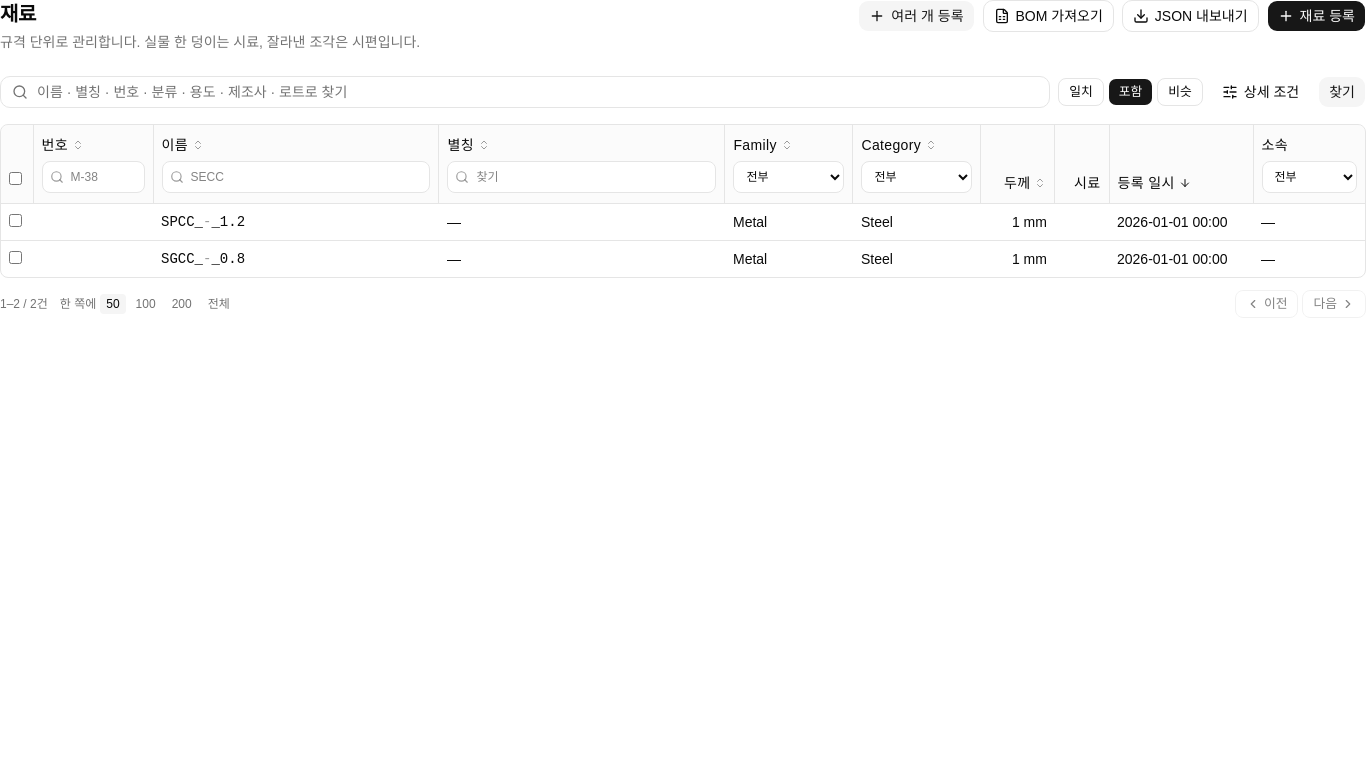
it: 일괄 삭제 › 열 때 무엇이 딸려 있는지 서버에 묻는다
expect the link "SPCC_-_1.2" is shown: met, box [161,214,245,230]
What coordinates should you click on to do the following:
click the checkbox named "전부 선택"
I would click on:
 (16, 178)
Its box is [9,172,22,185].
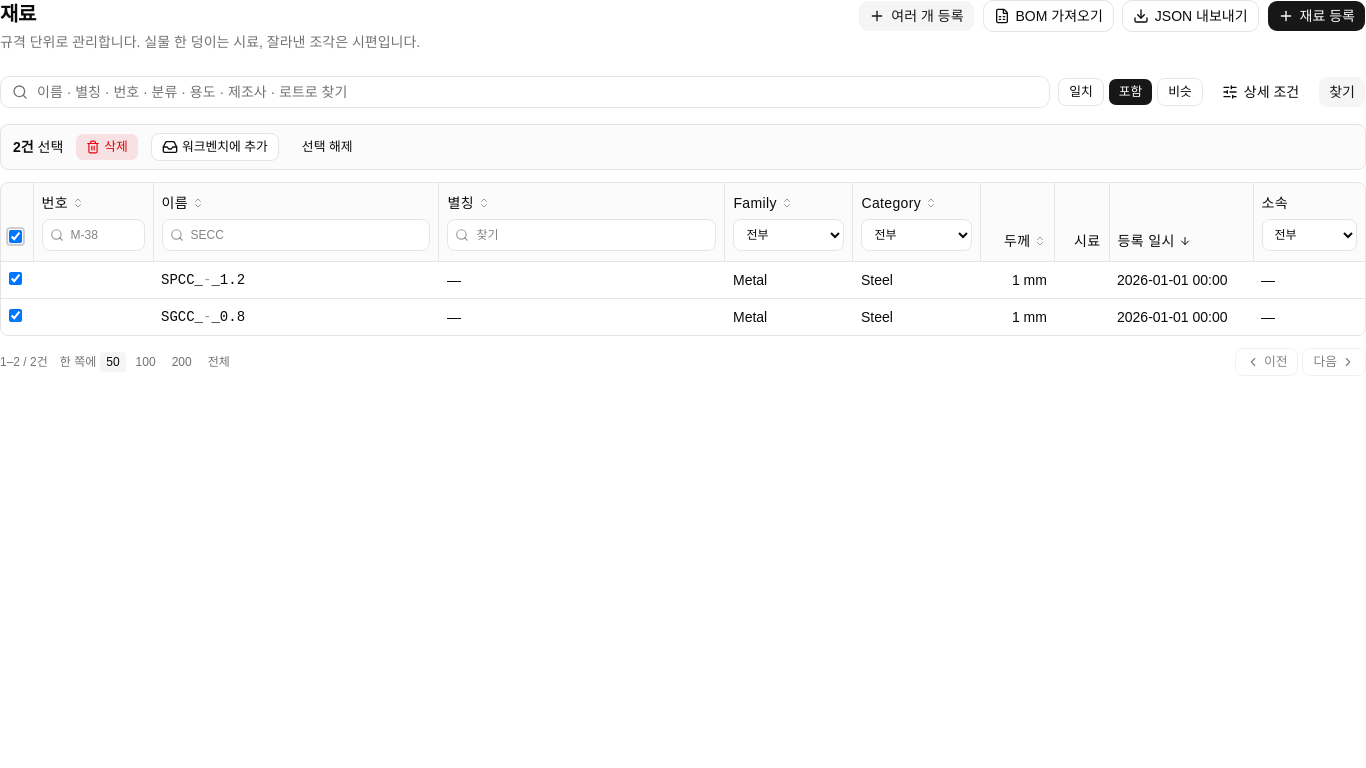
What coordinates should you click on to do the following:
click the button "삭제"
I would click on:
 (107, 147)
Its box is [75,133,139,161].
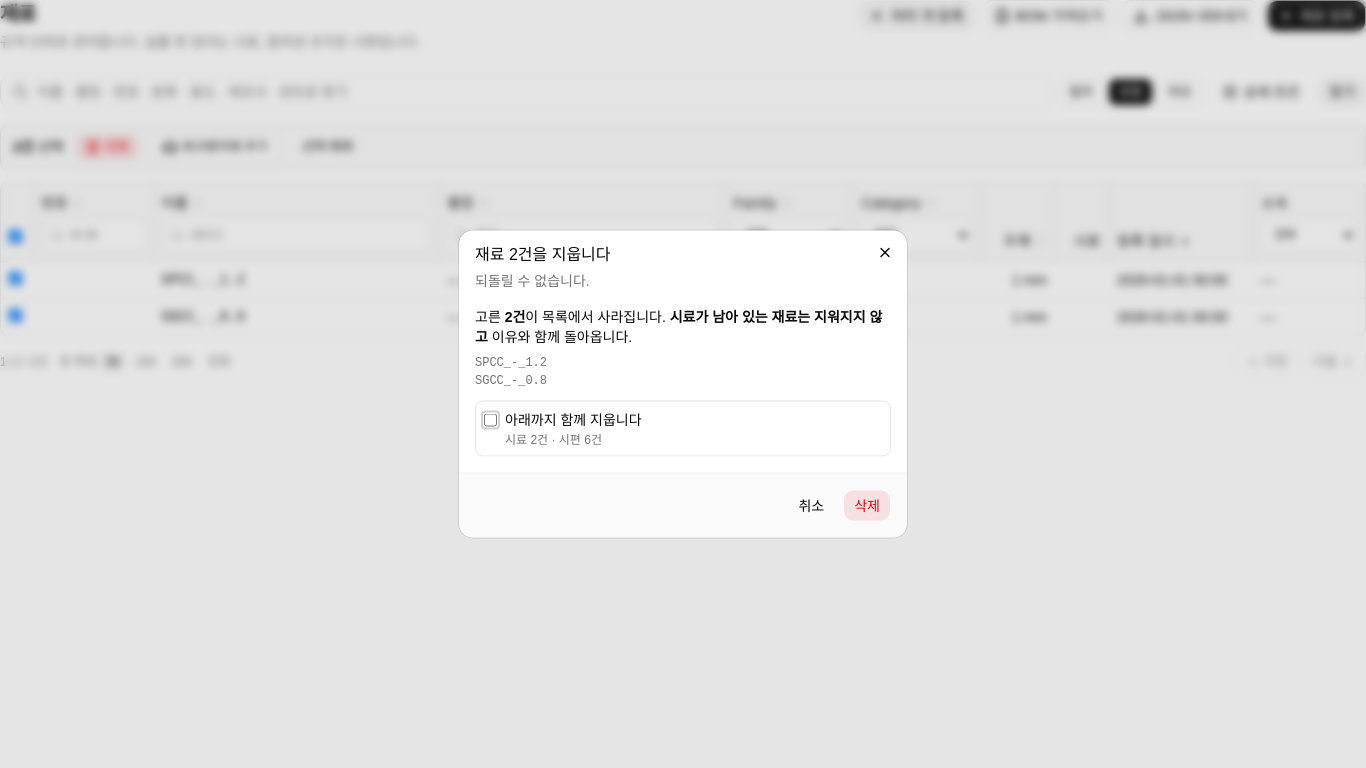
expect the text "시료 2건 · 시편 6건" is shown: met, box [505,432,602,446]
